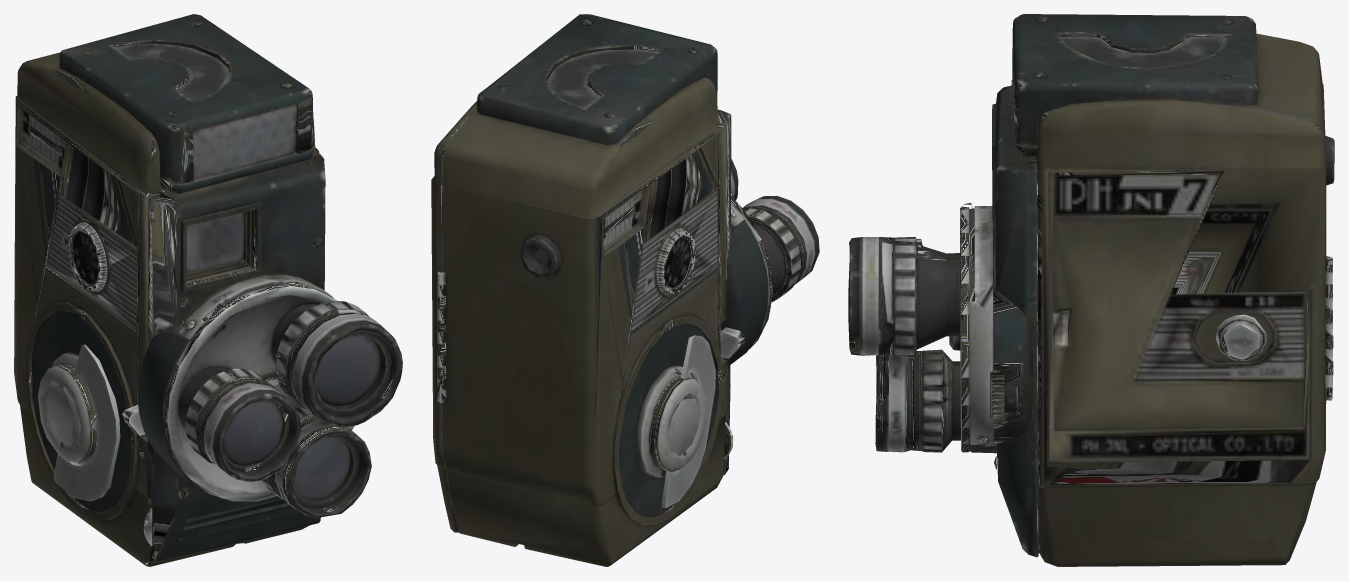
The model's file is vintage_video_camera.glb.
3 views of the same model, side by side, from view 1: azimuth 30°, elevation 25°; view 2: azimuth 150°, elevation 25°; view 3: azimuth 270°, elevation 25° (orthographic). The views are drawn at different scales.
Visible parts, largest first — view 1: vintage_video_camera; view 2: vintage_video_camera; view 3: vintage_video_camera.
Boxes of the visible parts, x1,y1,x2,y2 form: vintage_video_camera: [14, 14, 402, 566]; vintage_video_camera: [431, 14, 819, 566]; vintage_video_camera: [848, 14, 1334, 566].
Bounding box in the file's own units: 0.0712 × 0.1448 × 0.1326.
2 materials, 2 textured.
